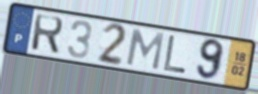2: (96, 22, 129, 68)
3: (66, 19, 93, 59)
9: (196, 38, 227, 83)
L: (162, 34, 188, 76)
M: (124, 27, 167, 72)
R: (29, 12, 65, 56)
